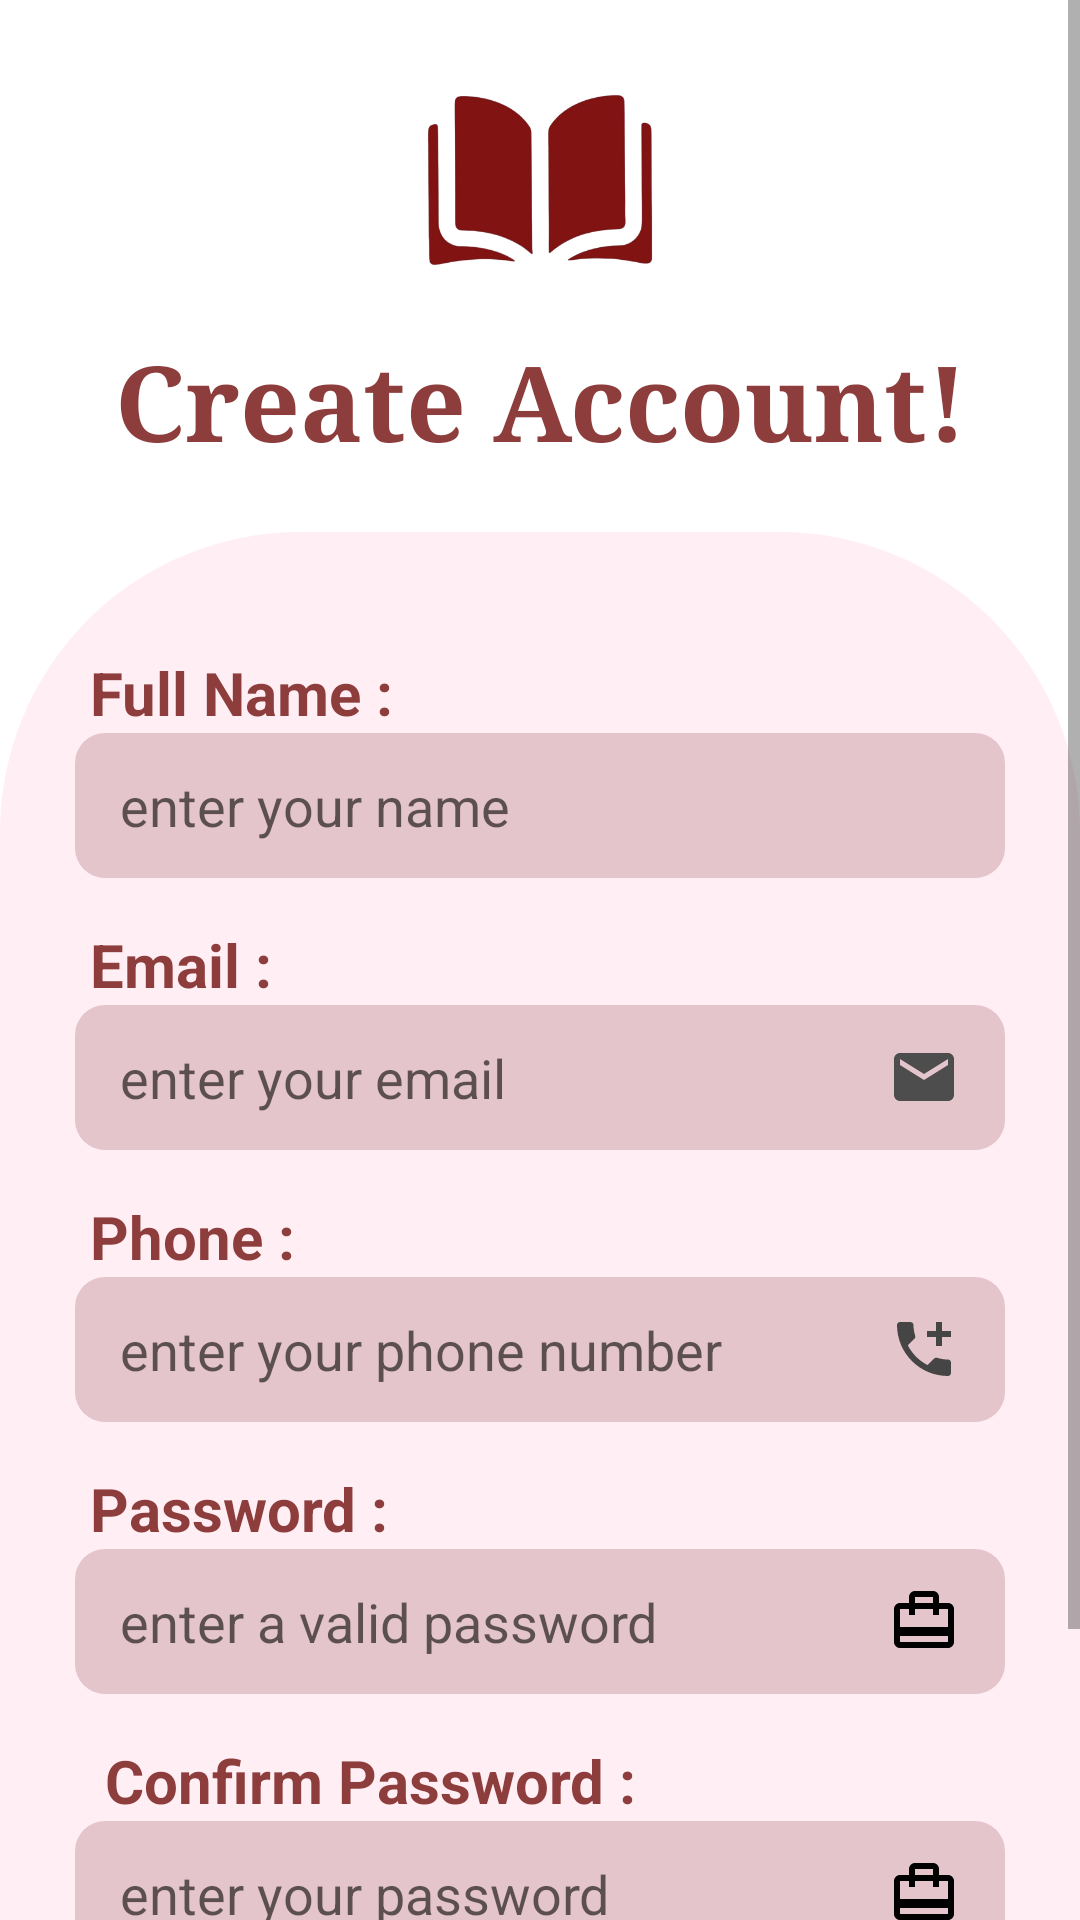

Locate icon controls on the screen. Image size 1080px×1920px, boxes as (x1, y1, x2, y2).
book: (428, 95, 652, 265)
